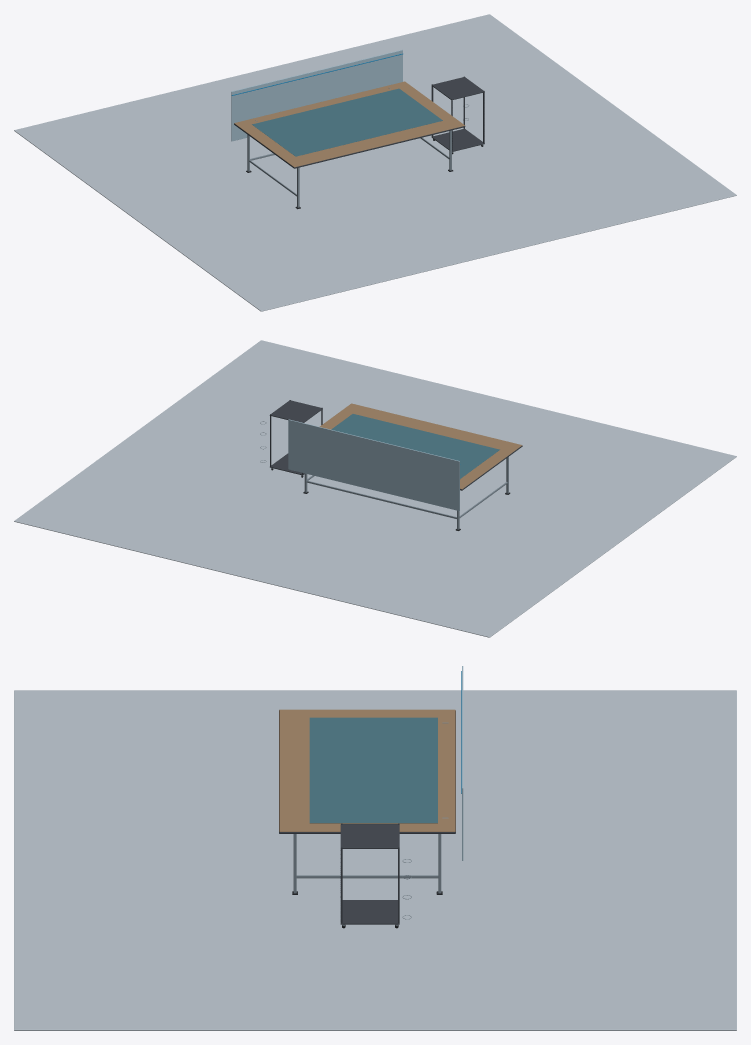
Rendered from lab-blender-room.glb.
3 views of the same model, one above another, from view 1: azimuth 30°, elevation 25°; view 2: azimuth 150°, elevation 25°; view 3: azimuth 270°, elevation 25° (orthographic). The views are drawn at different scales.
Parts seen in each view (by area): view 1: Seamless room floor, ESD work mat, Back wall, Warm laminate work surface, lab_environment__graphite, lab_environment__steel; view 2: Seamless room floor, Back wall, ESD work mat, Warm laminate work surface, lab_environment__graphite, lab_environment__steel; view 3: Seamless room floor, ESD work mat, Warm laminate work surface, lab_environment__graphite, lab_environment__steel.
Boxes of the visible parts, x1,y1,x2,y2 form: Seamless room floor: (14,14,736,311); ESD work mat: (252,88,442,156); Back wall: (231,49,402,141); Warm laminate work surface: (234,81,465,167); lab_environment__graphite: (234,76,484,168); lab_environment__steel: (247,87,482,207); Seamless room floor: (14,340,736,637); Back wall: (288,419,459,510); ESD work mat: (331,414,499,478); Warm laminate work surface: (319,403,522,489); lab_environment__graphite: (269,400,522,490); lab_environment__steel: (271,457,508,529); Seamless room floor: (14,690,736,1030); ESD work mat: (309,717,437,823); Warm laminate work surface: (279,709,455,831); lab_environment__graphite: (279,710,455,924); lab_environment__steel: (293,722,448,925).
Size of the model in its own units: 100 by 15.61 by 90.
